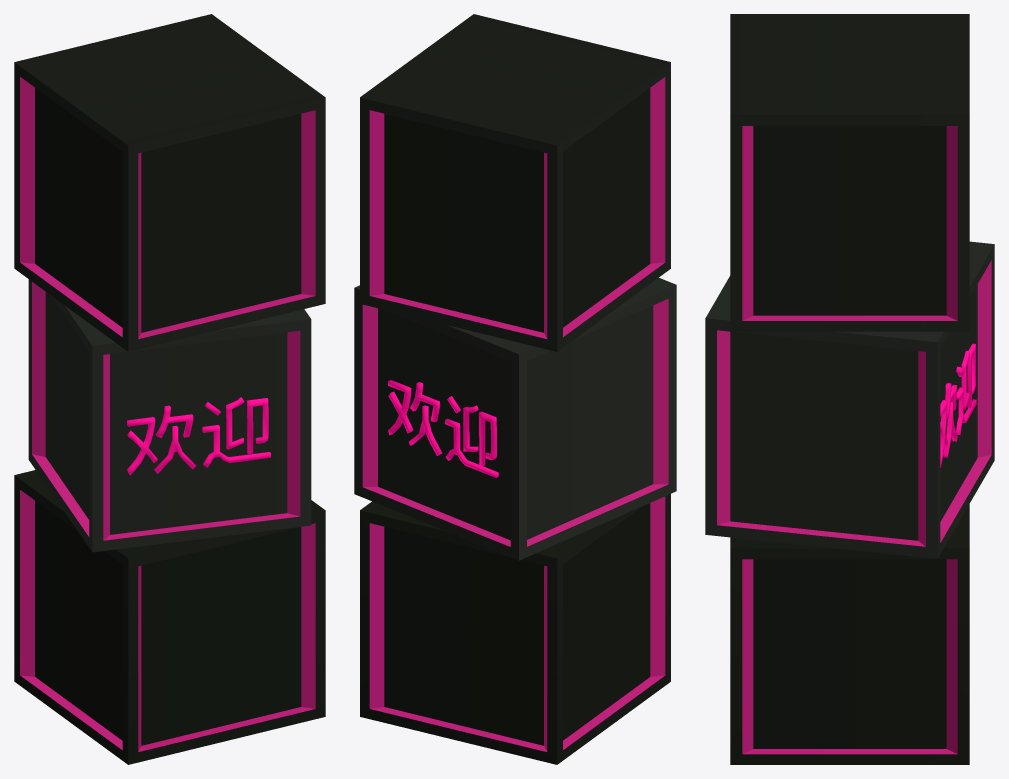
File: Game_Cube_F.glb
3 views of the same model, side by side, from view 1: azimuth 30°, elevation 25°; view 2: azimuth 150°, elevation 25°; view 3: azimuth 270°, elevation 25° (orthographic). The views are drawn at different scales.
Parts seen in each view (by area): view 1: Rotating_Billboard_Pink; view 2: Rotating_Billboard_Pink; view 3: Rotating_Billboard_Pink.
Part boxes in pixels (box(x1,y1,x2,y2)): Rotating_Billboard_Pink: box(14, 14, 325, 764); Rotating_Billboard_Pink: box(354, 14, 676, 764); Rotating_Billboard_Pink: box(705, 14, 994, 764).
Size of what is drawn, in the model's own units: 0.7727 by 1.92 by 0.7727.
Materials: 1 (1 with a texture image).
